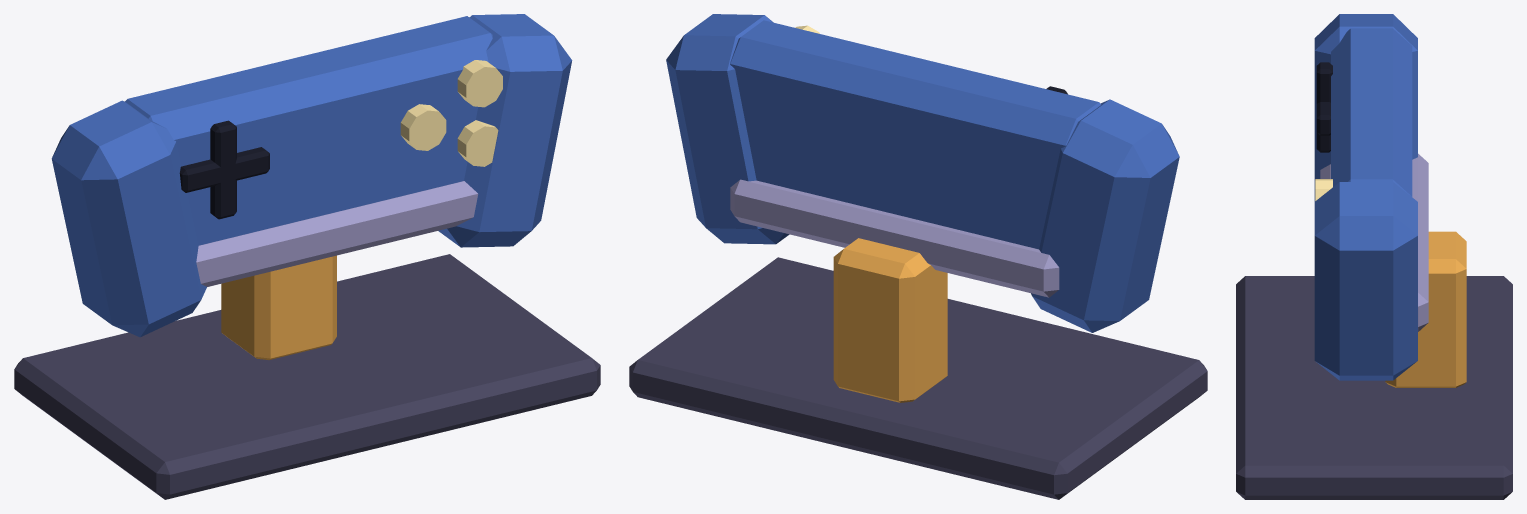
The model's file is 08_Gamepad_Stand.glb.
3 renders of one model, left to right at view 1: azimuth 30°, elevation 25°; view 2: azimuth 150°, elevation 25°; view 3: azimuth 270°, elevation 25°, orthographic. The views are drawn at different scales.
Visible parts, largest first — view 1: 08_Gamepad_Stand__Body; view 2: 08_Gamepad_Stand__Body; view 3: 08_Gamepad_Stand__Body.
Part boxes in pixels (box(x1,y1,x2,y2)): 08_Gamepad_Stand__Body: box(14, 14, 600, 499); 08_Gamepad_Stand__Body: box(629, 14, 1207, 499); 08_Gamepad_Stand__Body: box(1236, 14, 1512, 499).
Bounding box in the file's own units: 1.9 × 1.23 × 1.02.
Materials: 1 (1 with a texture image).
